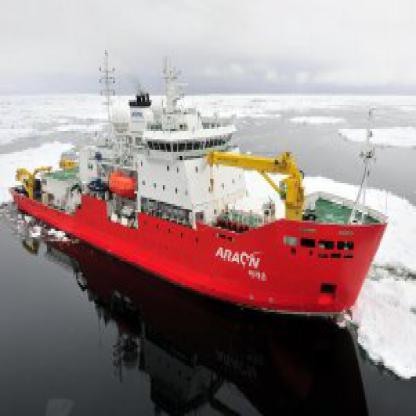fish-b: (7, 39, 394, 333)
